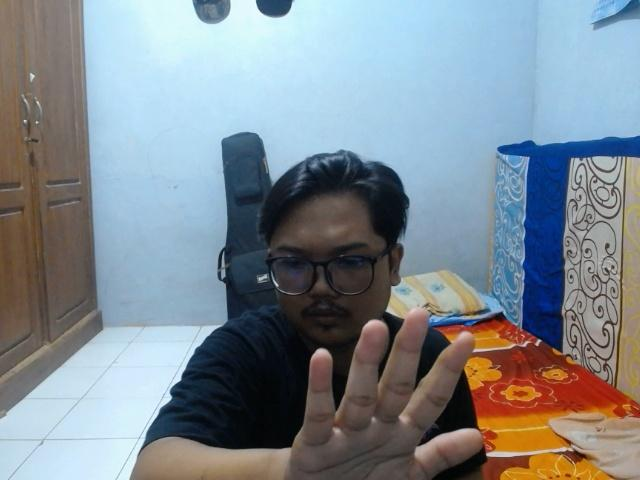Release: (287, 301, 491, 480)
